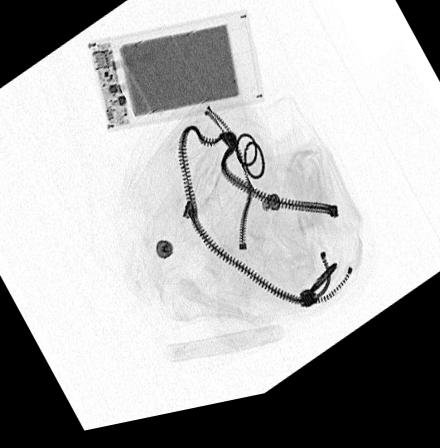Powerbank: (87, 18, 264, 137)
